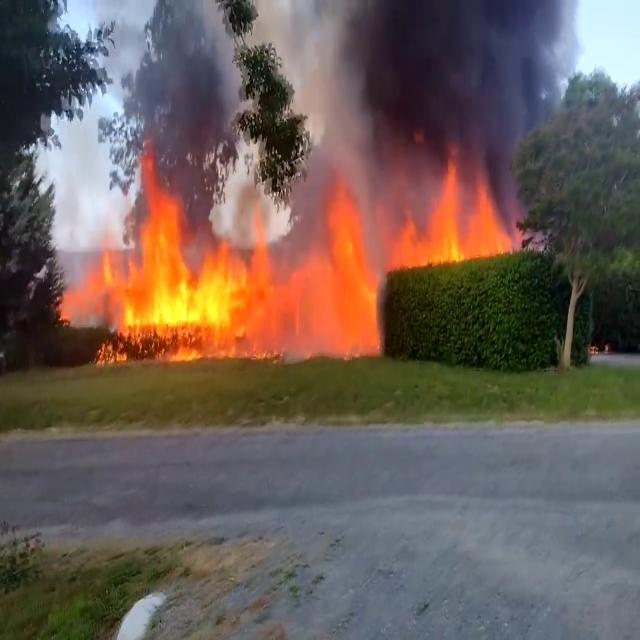Fire: (65, 179, 378, 361), (402, 160, 518, 276)
Smoke: (298, 1, 584, 214), (42, 1, 246, 218)
